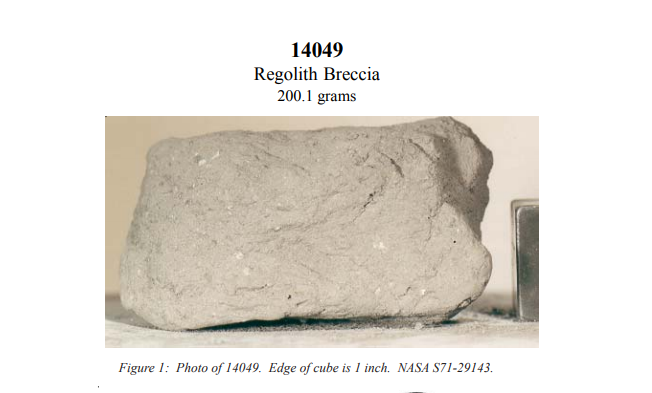Breccia: (98, 113, 536, 327)
